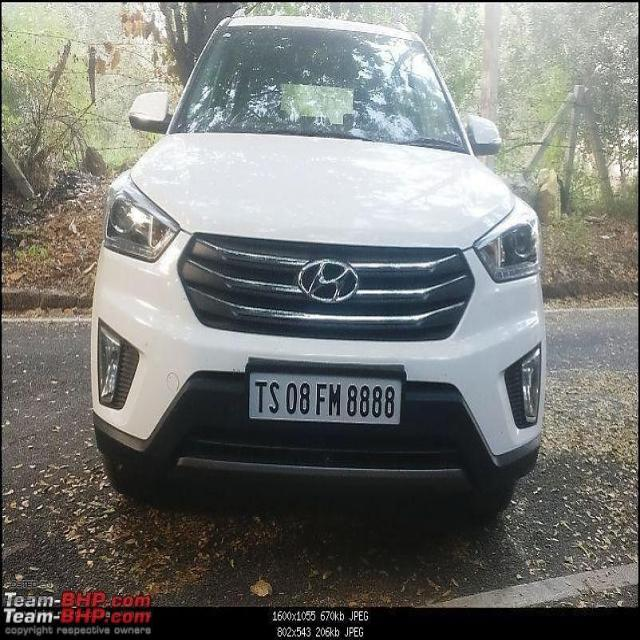number_plate: (247, 371, 403, 424)
